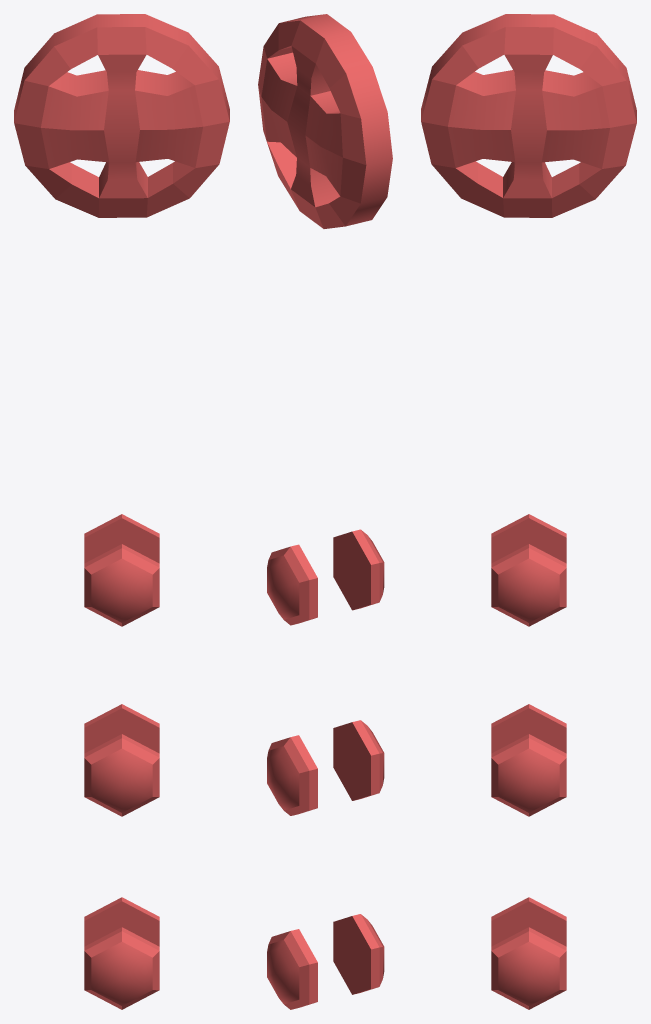
The picture shows the model from 3 angles, left to right: view 1: azimuth 90°, elevation 25°; view 2: azimuth 210°, elevation 25°; view 3: azimuth 270°, elevation 25°; orthographic projection.
Visible parts, largest first — view 1: pCylinder9; view 2: pCylinder9; view 3: pCylinder9.
Part boxes in pixels (x1=…): pCylinder9: x1=14, y1=14, x2=229, y2=1009; pCylinder9: x1=258, y1=14, x2=392, y2=1009; pCylinder9: x1=421, y1=14, x2=636, y2=1009.
Bounding box in the file's own units: 0.7401 × 6.5 × 1.31.
